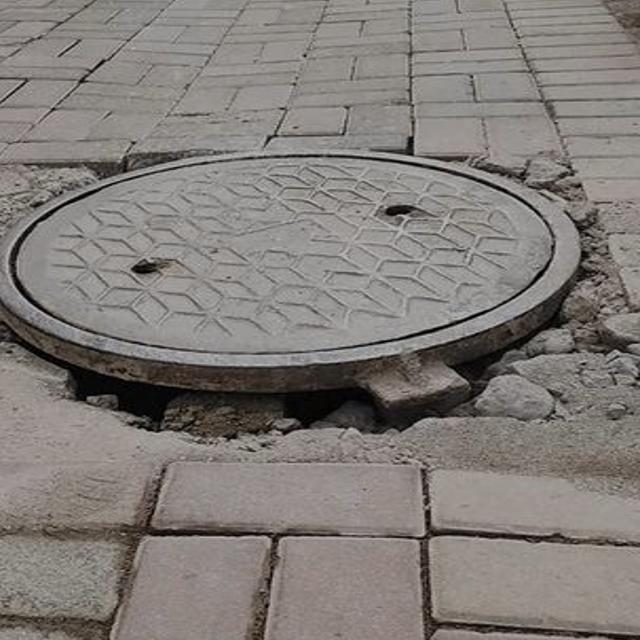circle: (0, 149, 640, 461)
